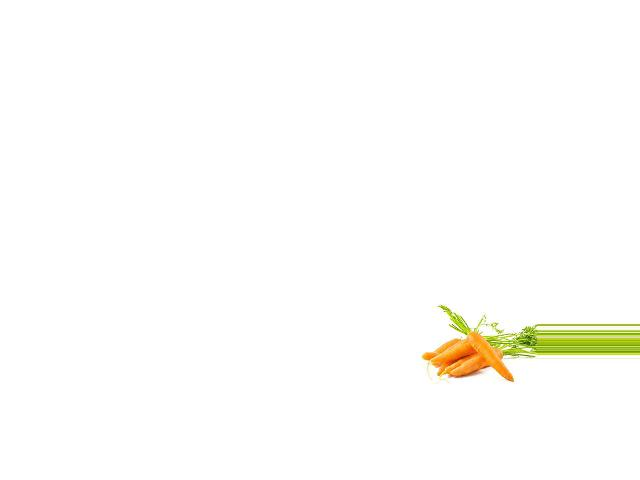carrot: (440, 348, 506, 375)
